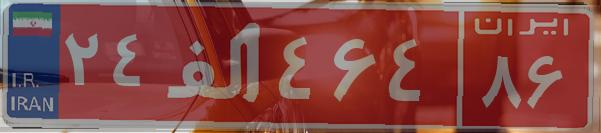2: (57, 26, 110, 107)
4: (385, 28, 445, 110), (273, 28, 330, 110), (110, 28, 158, 105)
6: (330, 28, 385, 110), (525, 38, 570, 115)
8: (475, 38, 525, 113)
الف: (158, 15, 273, 115)
